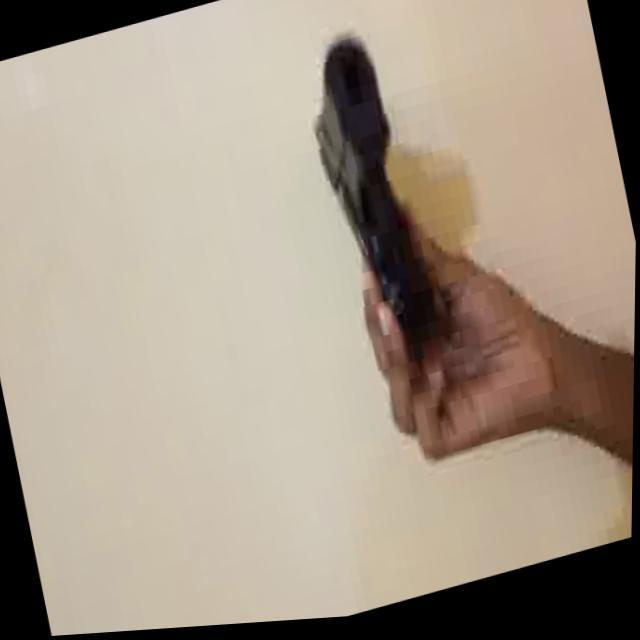weapon: (294, 23, 463, 374)
